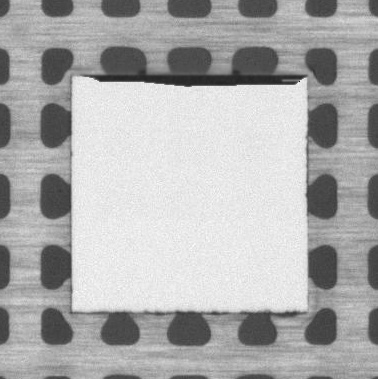DIE_BROKEN: (89, 69, 308, 86)
